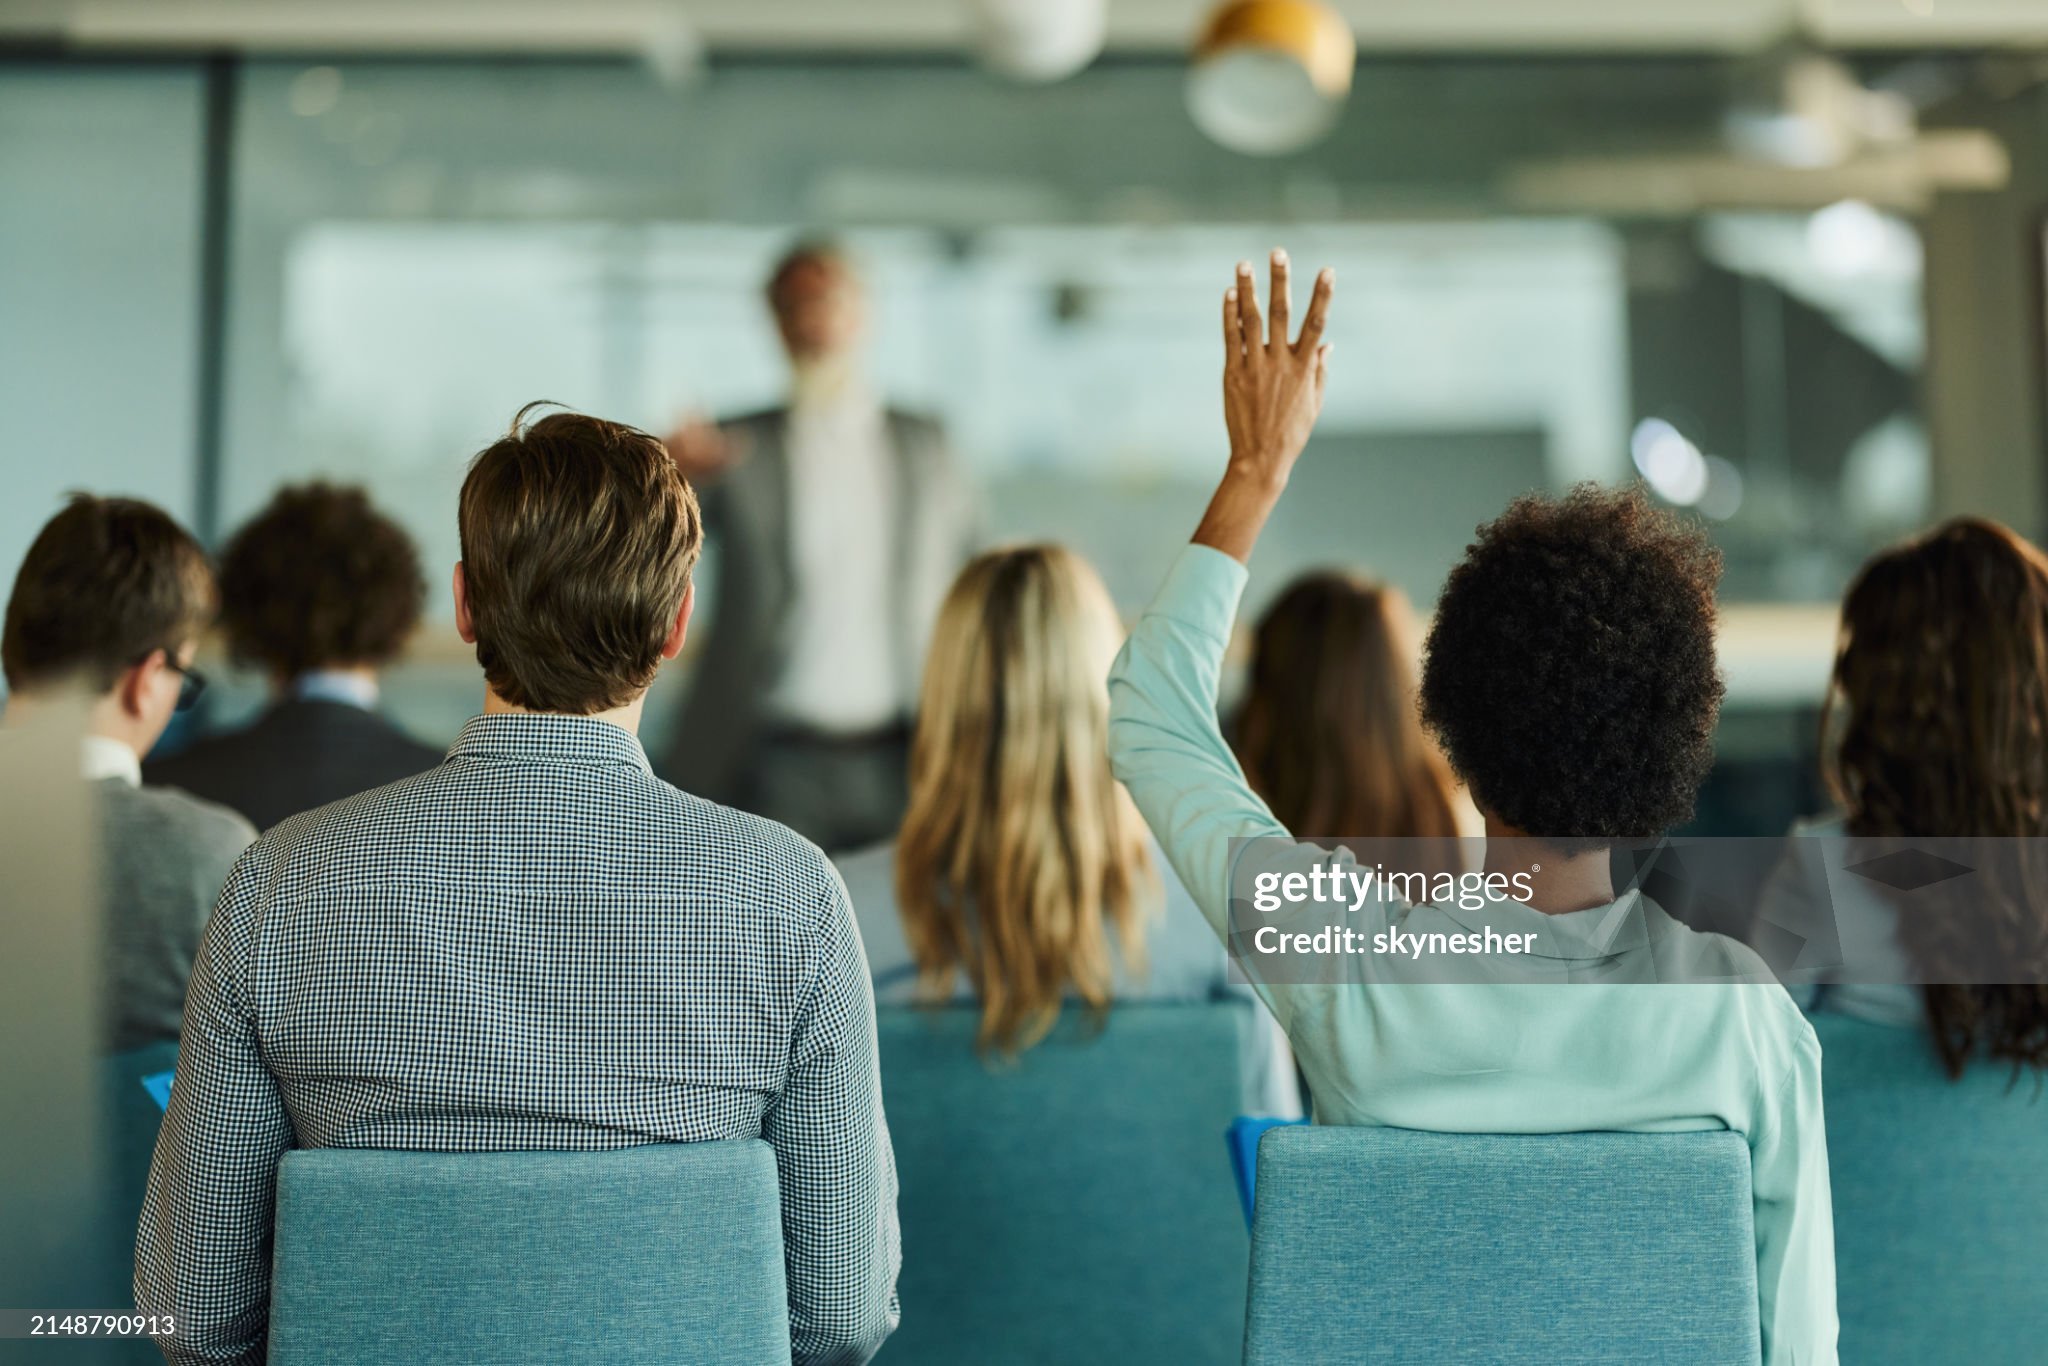entre15-30-porcento: (15, 245, 2040, 1357)
